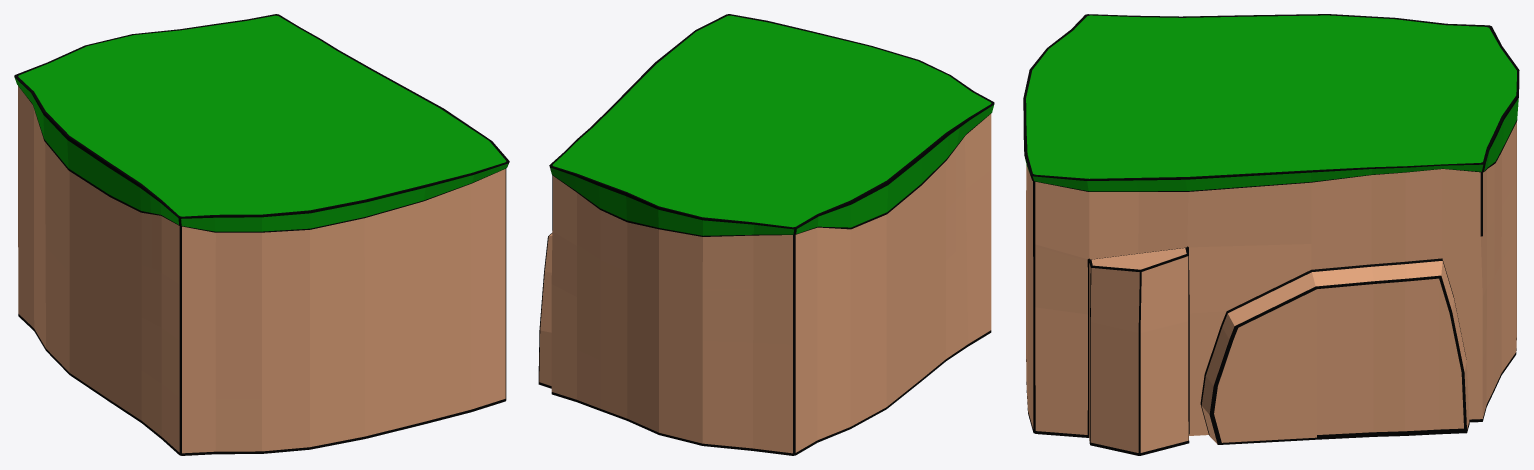
File: CardboardPlatform13.fbx
The picture shows the model from 3 angles, left to right: view 1: azimuth 30°, elevation 25°; view 2: azimuth 150°, elevation 25°; view 3: azimuth 270°, elevation 25°; orthographic projection. The views are drawn at different scales.
Parts seen in each view (by area): view 1: Cube.058; view 2: Cube.058; view 3: Cube.058.
Boxes of the visible parts, bbox=[...] form: Cube.058: bbox=[14, 14, 509, 455]; Cube.058: bbox=[538, 14, 994, 455]; Cube.058: bbox=[1023, 14, 1519, 455].
Bounding box in the file's own units: 876 × 581 × 1006.
